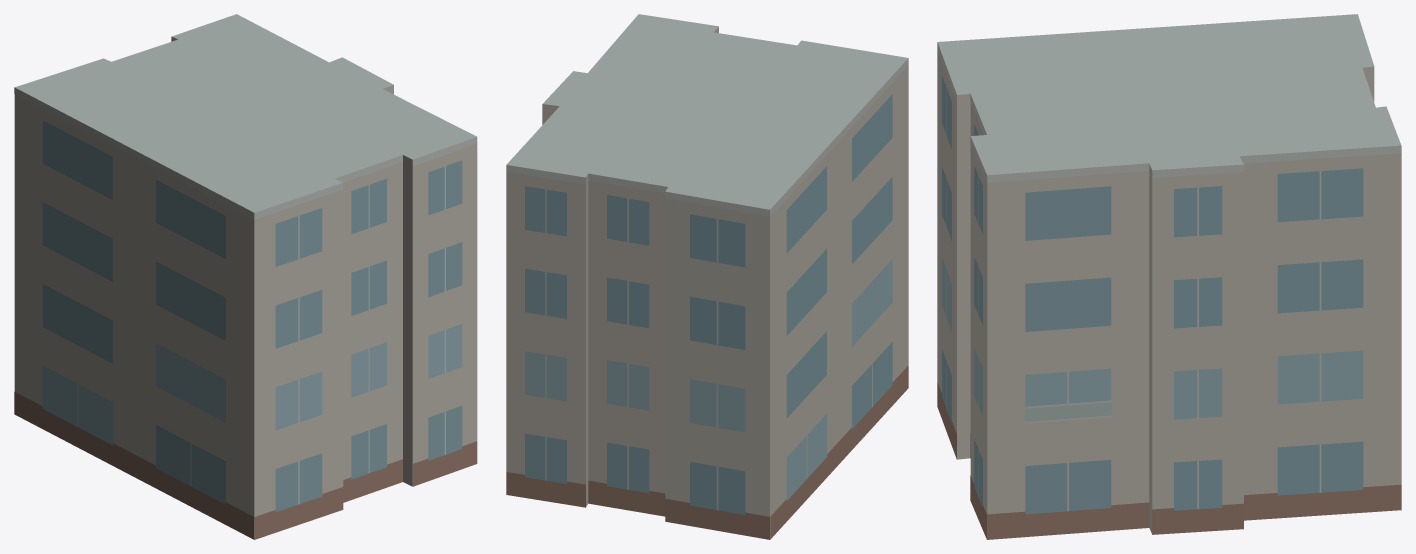
File: survey-upis-32672366.glb
The picture shows the model from 3 angles, left to right: view 1: azimuth 30°, elevation 25°; view 2: azimuth 150°, elevation 25°; view 3: azimuth 270°, elevation 25°; orthographic projection. The views are drawn at different scales.
Parts seen in each view (by area): view 1: survey-upis-32672366.tmp; view 2: survey-upis-32672366.tmp; view 3: survey-upis-32672366.tmp.
Part boxes in pixels (left/top/right/bottom): survey-upis-32672366.tmp: left=14, top=14, right=477, bottom=539; survey-upis-32672366.tmp: left=506, top=14, right=908, bottom=539; survey-upis-32672366.tmp: left=937, top=14, right=1401, bottom=539.
Size of the model in its own units: 11.11 by 11.7 by 13.51.
